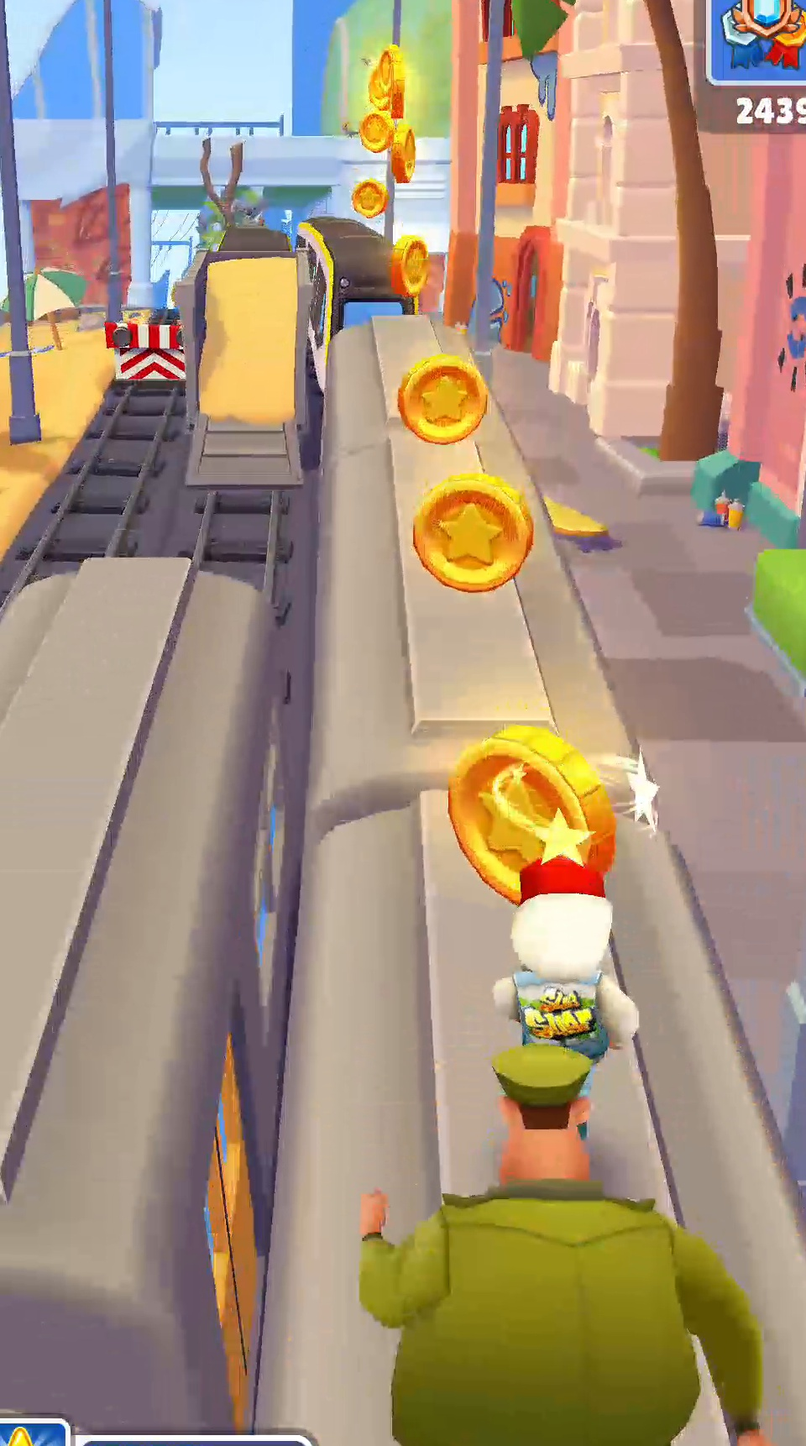block pillar: (200, 136, 264, 249)
climber: (183, 252, 309, 489)
roll blocker: (105, 319, 185, 380)
train: (297, 217, 417, 392)
